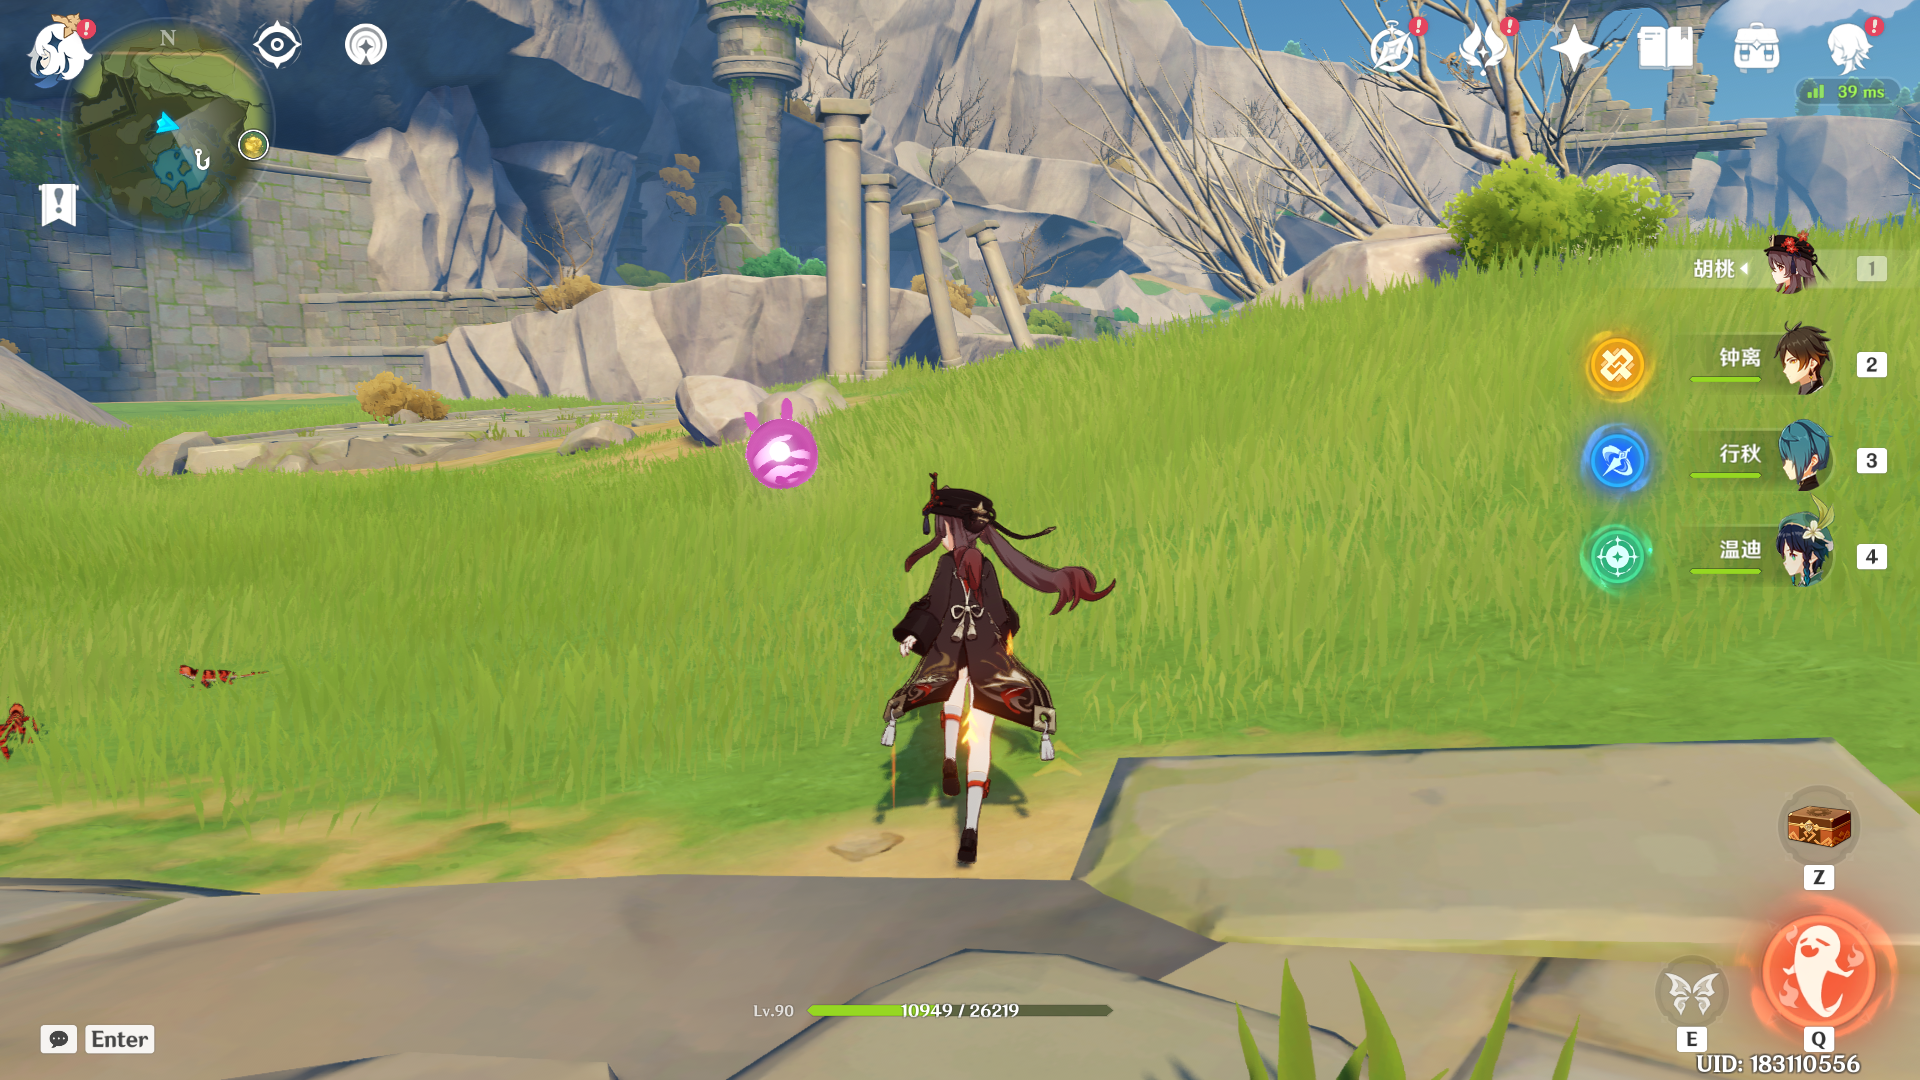character: (833, 404, 1126, 880)
